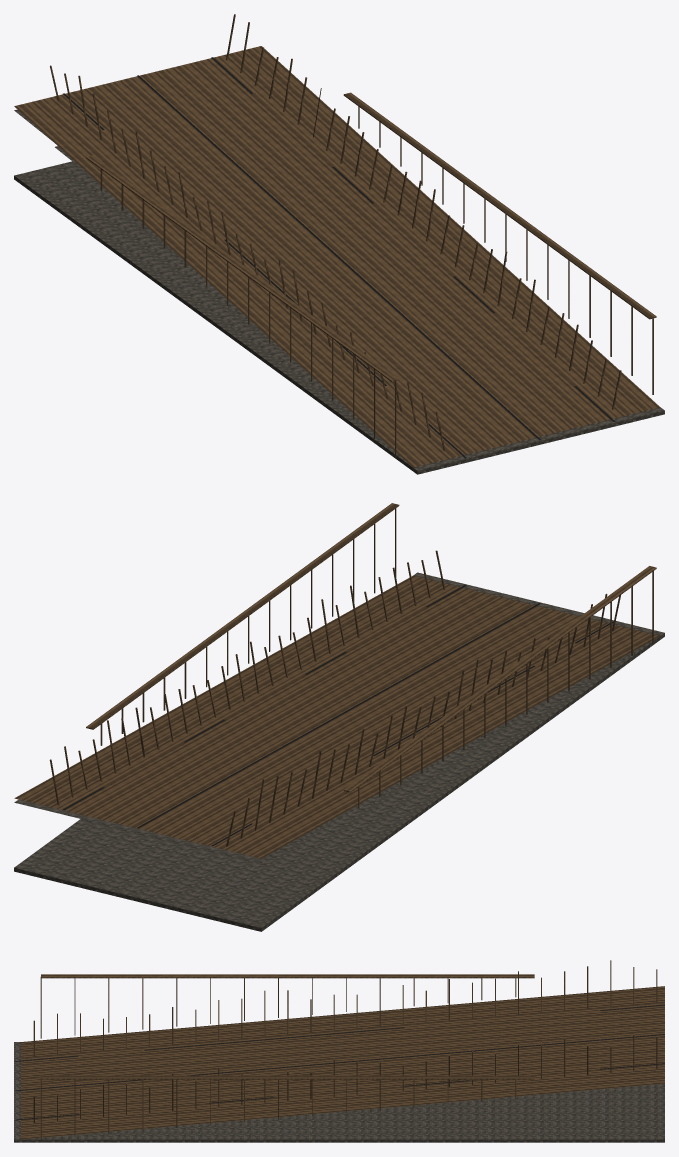
The model's file is B_slip.glb.
The picture shows the model from 3 angles, top to bottom: view 1: azimuth 30°, elevation 25°; view 2: azimuth 150°, elevation 25°; view 3: azimuth 270°, elevation 25°; orthographic projection. The views are drawn at different scales.
Parts seen in each view (by area): view 1: B_slip; view 2: B_slip; view 3: B_slip.
Boxes of the visible parts, x1,y1,x2,y2 form: B_slip: (14, 14, 664, 474); B_slip: (14, 503, 664, 931); B_slip: (14, 960, 664, 1142).
Size of the model in its own units: 36.36 by 15.8 by 96.
4 materials, 4 textured.
